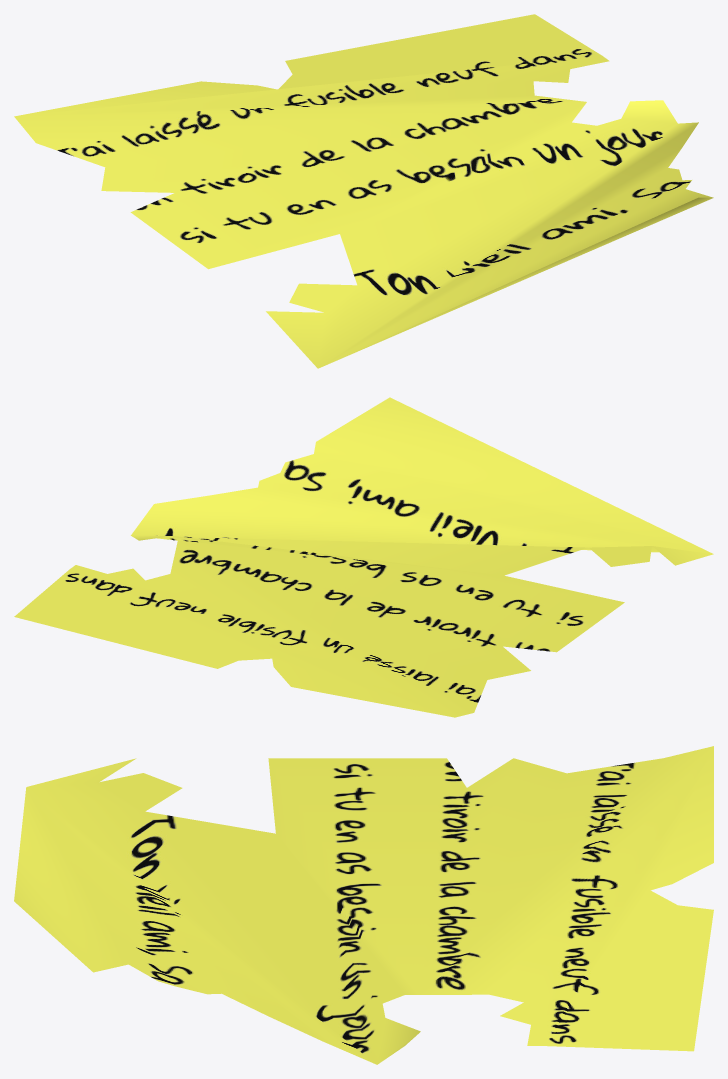
Rendered from Mot2.fbx.
3 views of the same model, one above another, from view 1: azimuth 30°, elevation 25°; view 2: azimuth 150°, elevation 25°; view 3: azimuth 270°, elevation 25° (orthographic). The views are drawn at different scales.
Parts seen in each view (by area): view 1: polySurface7; view 2: polySurface7; view 3: polySurface7.
Part boxes in pixels (bbox=[...]): polySurface7: bbox=[14, 14, 713, 368]; polySurface7: bbox=[14, 397, 713, 717]; polySurface7: bbox=[14, 746, 713, 1064].
Size of the model in its own units: 1267 by 196 by 1296.
